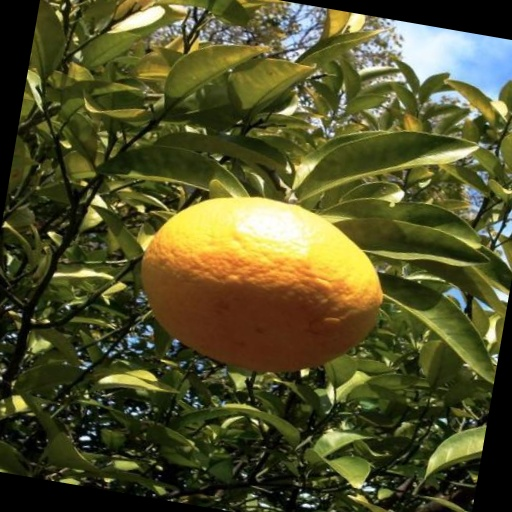fruit: (32, 101, 251, 457)
